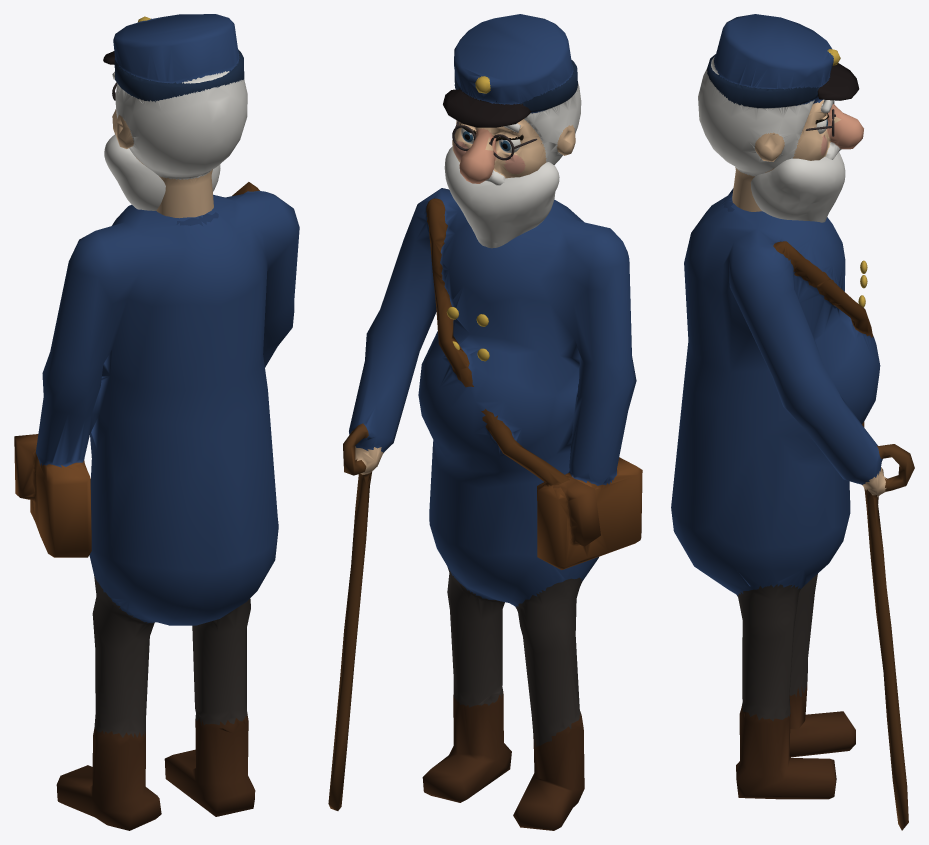
Rendered from pind.glb.
3 views of the same model, side by side, from view 1: azimuth 30°, elevation 25°; view 2: azimuth 150°, elevation 25°; view 3: azimuth 270°, elevation 25° (orthographic). The views are drawn at different scales.
Visible parts, largest first — view 1: body_lod0, head_lod0, beard_lod0; view 2: body_lod0, head_lod0, beard_lod0; view 3: body_lod0, head_lod0, beard_lod0.
Part boxes in pixels (x1,y1,x2,y2): body_lod0: (14,182,299,830); head_lod0: (103,14,247,218); beard_lod0: (104,134,220,210); body_lod0: (328,188,642,830); head_lod0: (443,14,581,185); beard_lod0: (444,146,559,248); body_lod0: (671,188,914,830); head_lod0: (698,14,863,211); beard_lod0: (750,152,845,222).
Size of what is drawn, in the model's own units: 0.657 by 1.89 by 0.5587.
